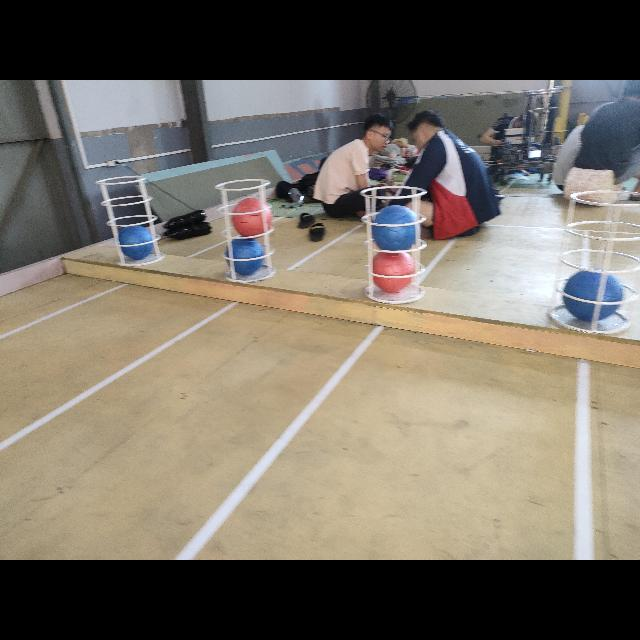B: (564, 268, 622, 322), (372, 205, 418, 252), (224, 236, 266, 276), (120, 224, 152, 260)
R: (368, 248, 416, 292), (233, 198, 275, 238)
